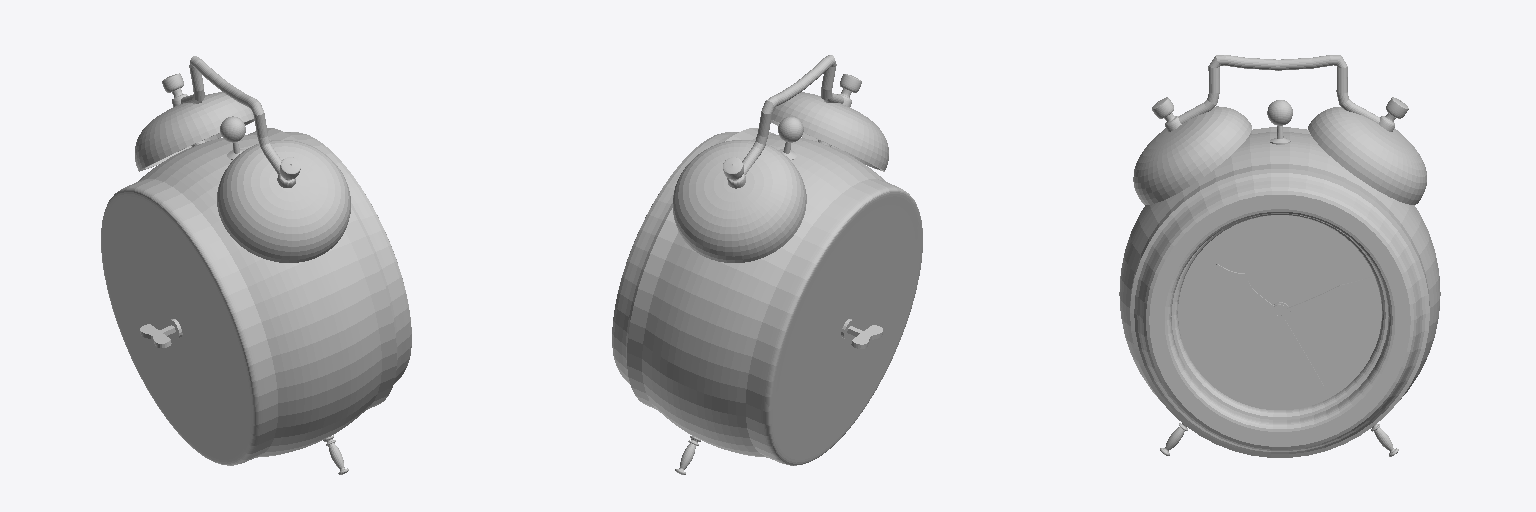
Rendered from clock_original.obj.
3 renders of one model, left to right at view 1: azimuth 30°, elevation 25°; view 2: azimuth 150°, elevation 25°; view 3: azimuth 270°, elevation 25°, orthographic.
Parts seen in each view (by area): view 1: Rectangle001, Sphere001, Sphere002, Loft001, Line002, Line004, Line006; view 2: Rectangle001, Sphere002, Sphere001, Loft001, Line002, Line005, Line006; view 3: Rectangle001, Object, Sphere001, Sphere002, Loft001, Arc003, Line002, Line005, Line004.
Part boxes in pixels (x1,y1,x2,y2): Rectangle001: (101,128,411,465); Sphere001: (217,140,350,262); Sphere002: (135,92,254,171); Loft001: (181,56,281,174); Line002: (220,116,245,159); Line004: (277,157,300,187); Line006: (140,324,175,348); Rectangle001: (612,128,922,465); Sphere002: (673,140,806,262); Sphere001: (771,92,888,171); Loft001: (742,55,843,174); Line002: (778,117,803,159); Line005: (723,157,745,188); Line006: (847,325,882,348); Rectangle001: (1119,127,1440,457); Object: (1178,215,1381,409); Sphere001: (1133,106,1251,204); Sphere002: (1308,107,1426,204); Loft001: (1178,55,1379,123); Arc003: (1216,264,1374,386); Line002: (1267,100,1292,144); Line005: (1379,97,1408,131); Line004: (1152,97,1181,131).
Bounding box in the file's own units: 92.6 × 153 × 120.